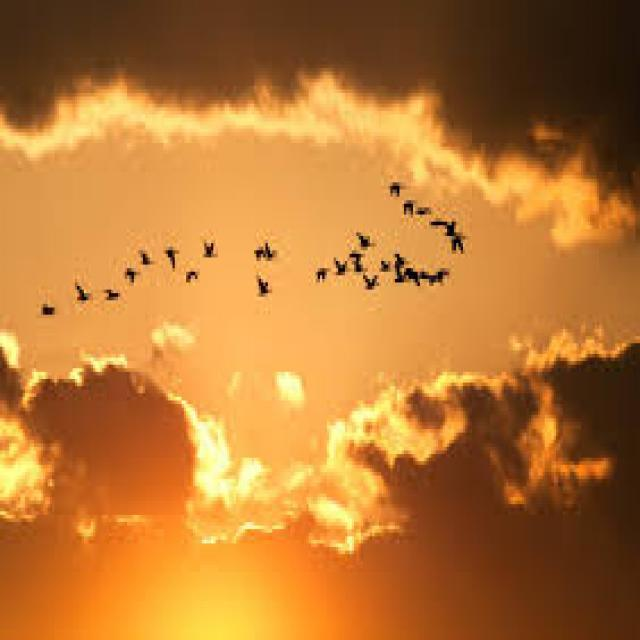bird: (154, 232, 184, 290), (72, 272, 96, 314), (40, 298, 70, 330), (196, 222, 222, 258), (251, 270, 276, 306), (136, 234, 154, 281), (95, 282, 127, 308), (182, 266, 205, 302), (260, 234, 282, 270), (310, 259, 332, 295), (405, 254, 421, 297), (332, 244, 349, 284), (124, 259, 140, 295), (437, 262, 455, 292), (250, 234, 264, 270), (385, 175, 403, 200), (350, 247, 364, 279), (444, 242, 468, 260), (354, 227, 372, 249), (444, 210, 456, 242), (403, 196, 416, 222), (363, 275, 381, 293), (380, 252, 392, 274)
